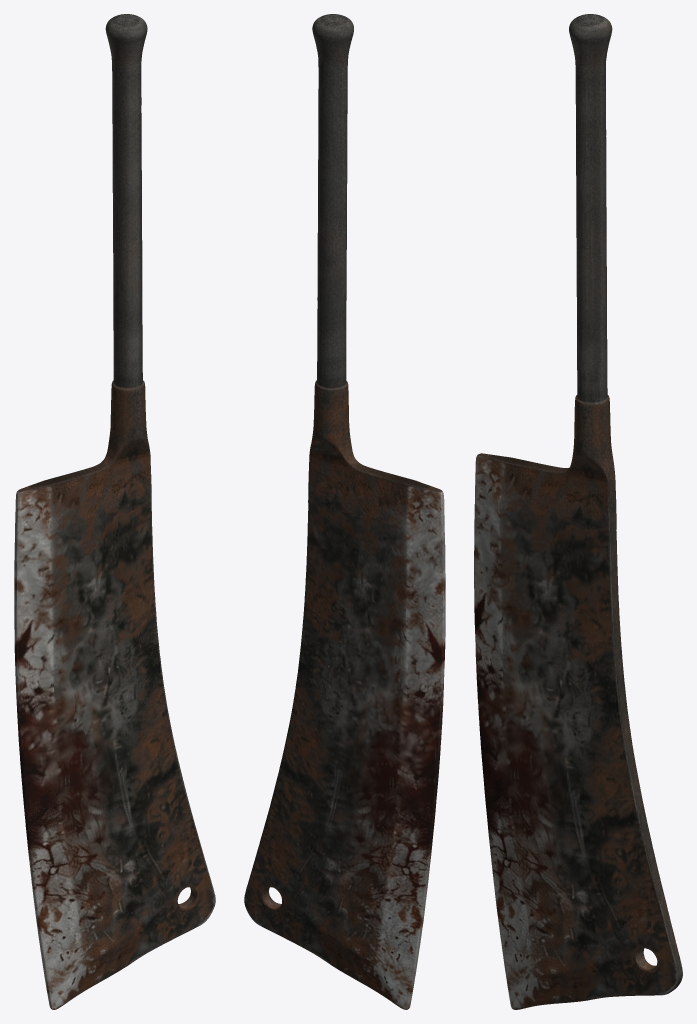
File: executioner_cleaver.glb
3 renders of one model, left to right at view 1: azimuth 30°, elevation 25°; view 2: azimuth 150°, elevation 25°; view 3: azimuth 330°, elevation 25°, orthographic. The views are drawn at different scales.
Parts seen in each view (by area): view 1: Mesh_0; view 2: Mesh_0; view 3: Mesh_0.
Boxes of the visible parts, left/top/right/bottom form: Mesh_0: left=14, top=14, right=215, bottom=1009; Mesh_0: left=244, top=14, right=445, bottom=1009; Mesh_0: left=474, top=14, right=682, bottom=1009.
Bounding box in the file's own units: 0.4068 × 1.9 × 0.0739.
1 material, 1 textured.
